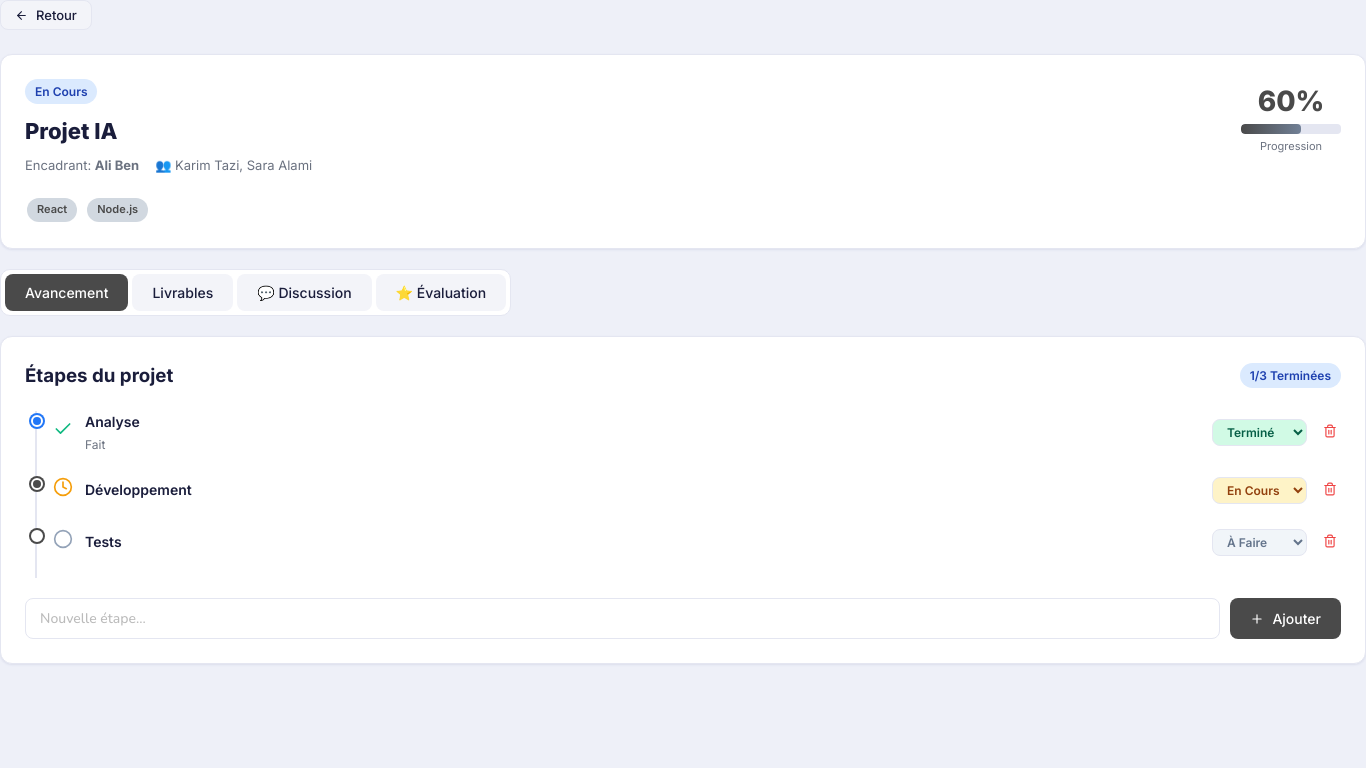
Test: ProjectDetailPage - Tabs Navigation › switches to Évaluation tab and shows evaluation
Expected: the heading "Projet IA" is shown, left=25, top=118, right=118, bottom=144
Click the button "⭐ Évaluation" at x=441, y=292, box left=376, top=274, right=506, bottom=311
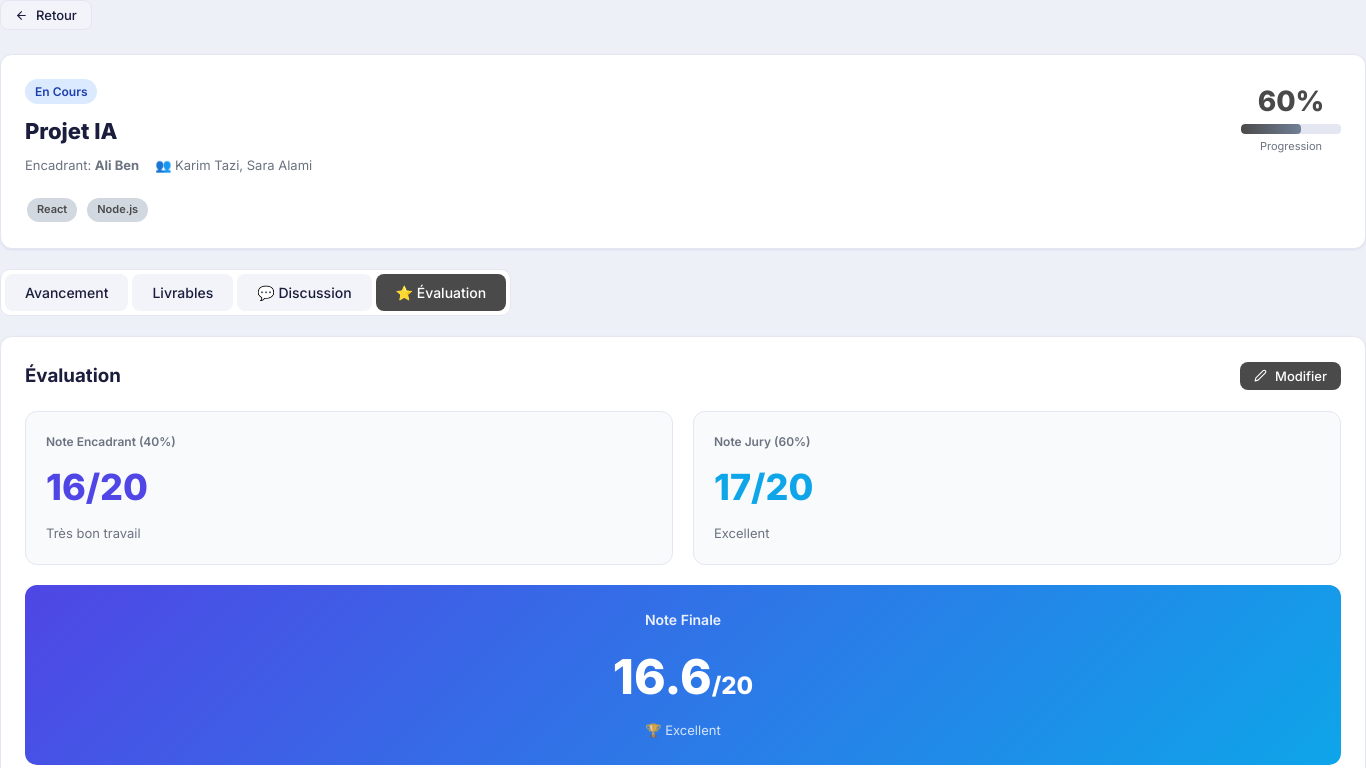
Expected: the text "16/20" is shown, left=46, top=465, right=148, bottom=509
Expected: the text "17/20" is shown, left=714, top=465, right=813, bottom=509
Expected: the text "16.6/20" is shown, left=613, top=647, right=753, bottom=706
